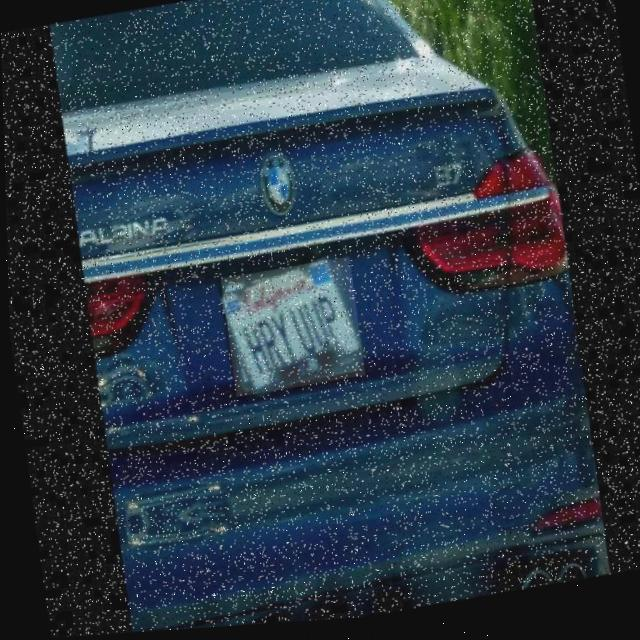LicensePlate: (218, 260, 364, 400)
